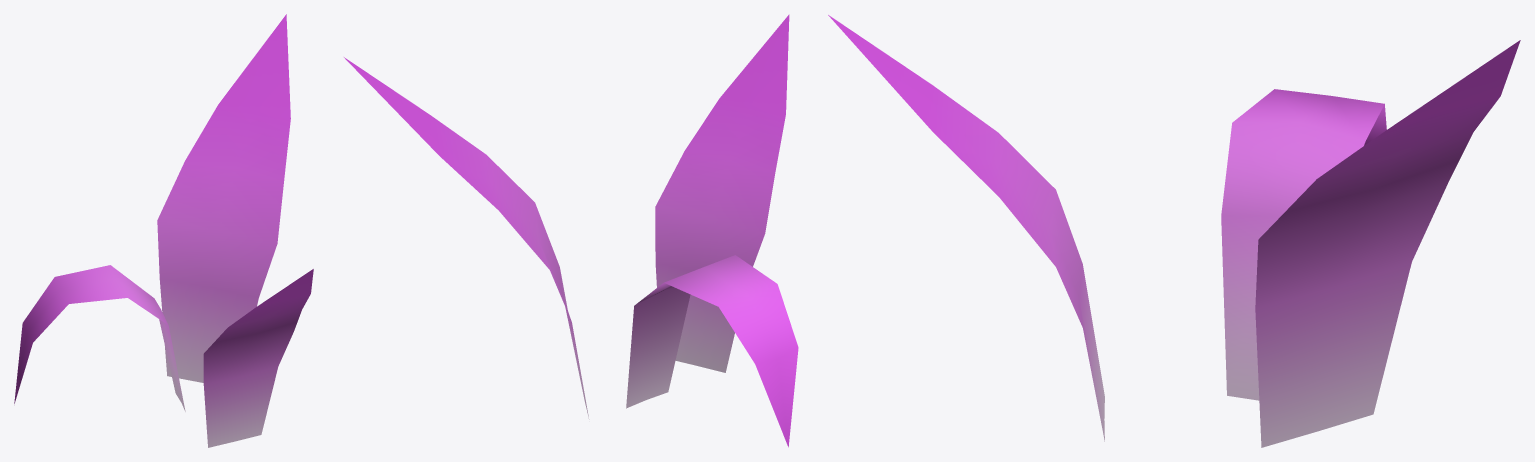
File: SM_GRASS_CANDY_1.fbx
3 views of the same model, side by side, from view 1: azimuth 30°, elevation 25°; view 2: azimuth 150°, elevation 25°; view 3: azimuth 270°, elevation 25° (orthographic). The views are drawn at different scales.
Parts seen in each view (by area): view 1: GRASS_CANDY_1; view 2: GRASS_CANDY_1; view 3: GRASS_CANDY_1.
Part boxes in pixels (x1,y1,x2,y2): GRASS_CANDY_1: (14,14,313,447); GRASS_CANDY_1: (344,14,798,447); GRASS_CANDY_1: (828,15,1520,447).
Bounding box in the file's own units: 62.23 × 55.69 × 66.58.
Materials: 1 (1 with a texture image).
